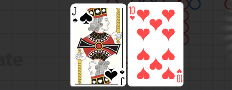10H: (128, 5, 136, 21)
7S: (71, 5, 78, 23)
